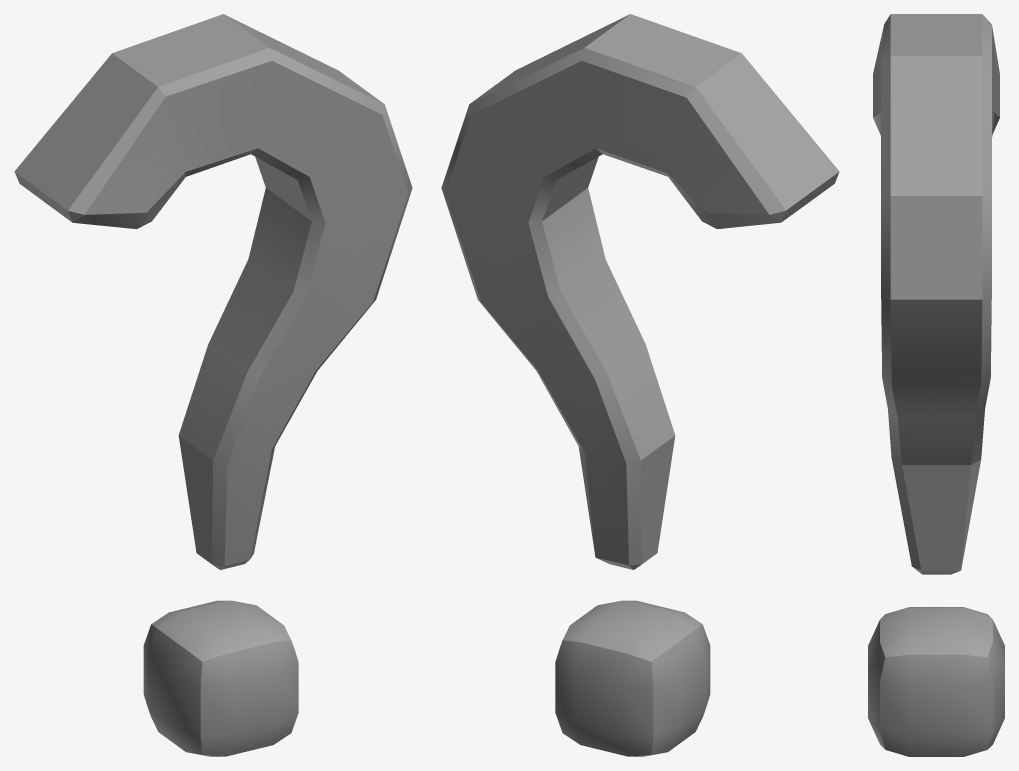
The model's file is QuestionMarkGray.fbx.
3 views of the same model, side by side, from view 1: azimuth 30°, elevation 25°; view 2: azimuth 150°, elevation 25°; view 3: azimuth 270°, elevation 25° (orthographic).
Parts seen in each view (by area): view 1: QuestionMarkGray; view 2: QuestionMarkGray; view 3: QuestionMarkGray.
Boxes of the visible parts, <box> form: QuestionMarkGray: <box>14,14,412,756</box>; QuestionMarkGray: <box>441,14,839,756</box>; QuestionMarkGray: <box>868,14,1004,756</box>.
Bounding box in the file's own units: 2.63 × 5.09 × 0.9009.
Materials: 1 (1 with a texture image).
